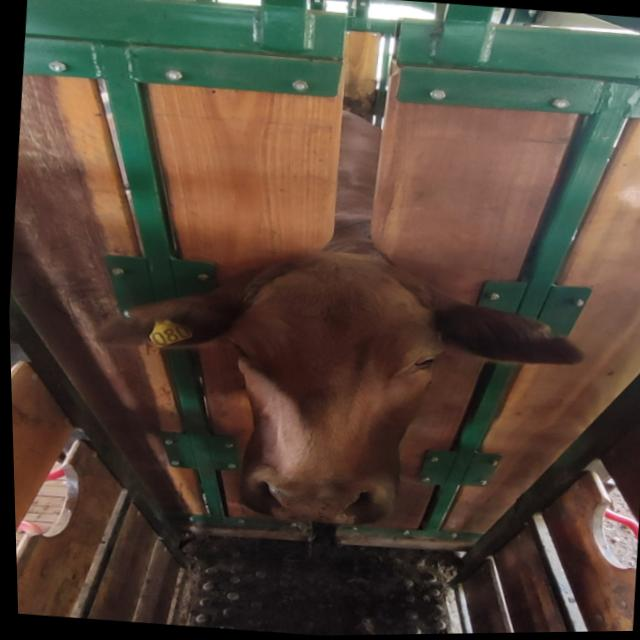cowFace: (206, 245, 455, 536)
